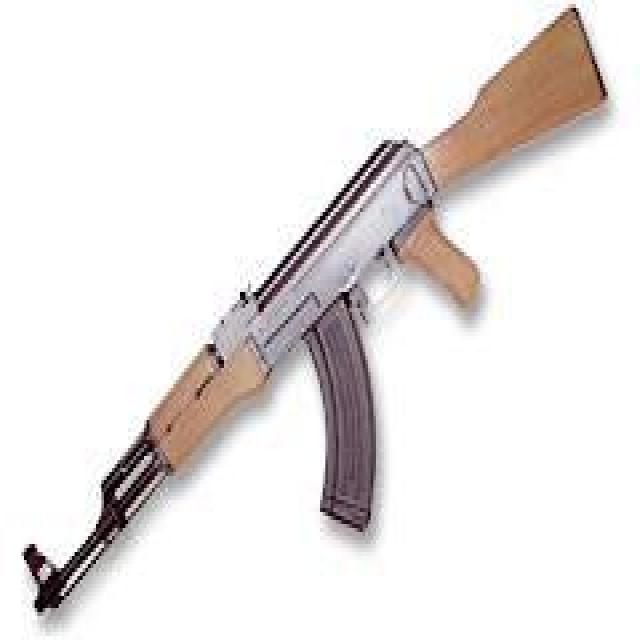Gun: (9, 4, 615, 630)
